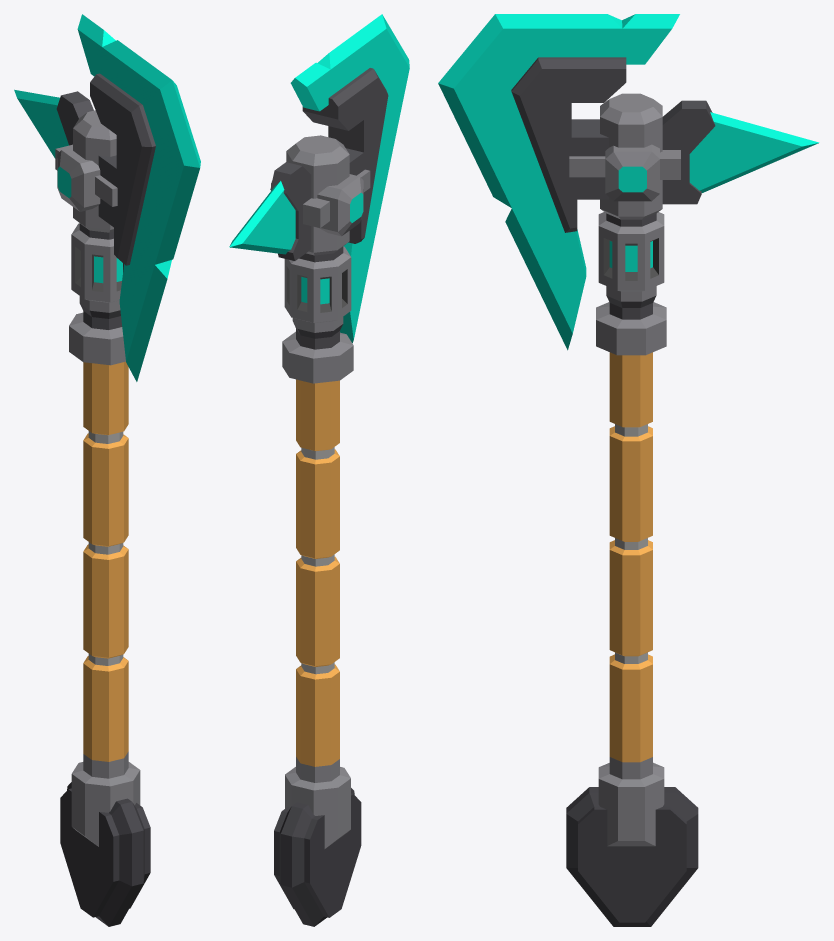
Rendered from worlds_SM_Wep_BigAxe_01.gltf.
3 renders of one model, left to right at view 1: azimuth 30°, elevation 25°; view 2: azimuth 150°, elevation 25°; view 3: azimuth 270°, elevation 25°, orthographic. The views are drawn at different scales.
Visible parts, largest first — view 1: SM_Wep_BigAxe_01; view 2: SM_Wep_BigAxe_01; view 3: SM_Wep_BigAxe_01.
Part boxes in pixels (x1,y1,x2,y2): SM_Wep_BigAxe_01: [14, 14, 200, 926]; SM_Wep_BigAxe_01: [229, 14, 409, 926]; SM_Wep_BigAxe_01: [438, 14, 819, 926].
Bounding box in the file's own units: 0.1156 × 1.2 × 0.4575.
Materials: 1 (1 with a texture image).
